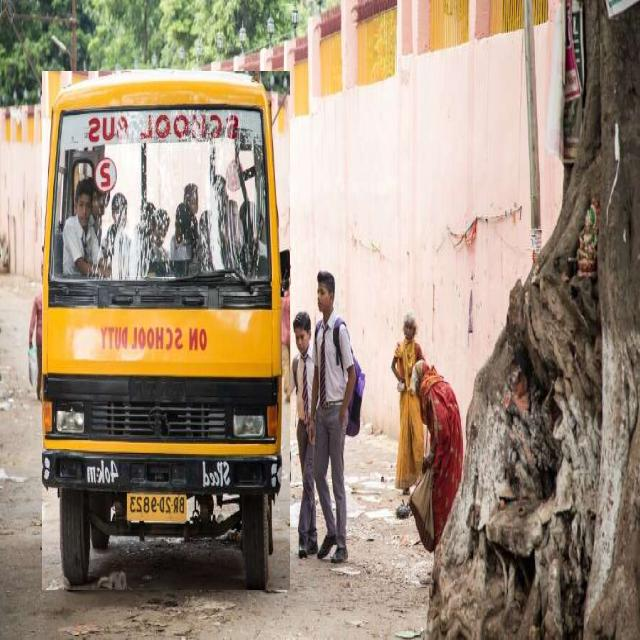bus: (42, 71, 290, 590)
